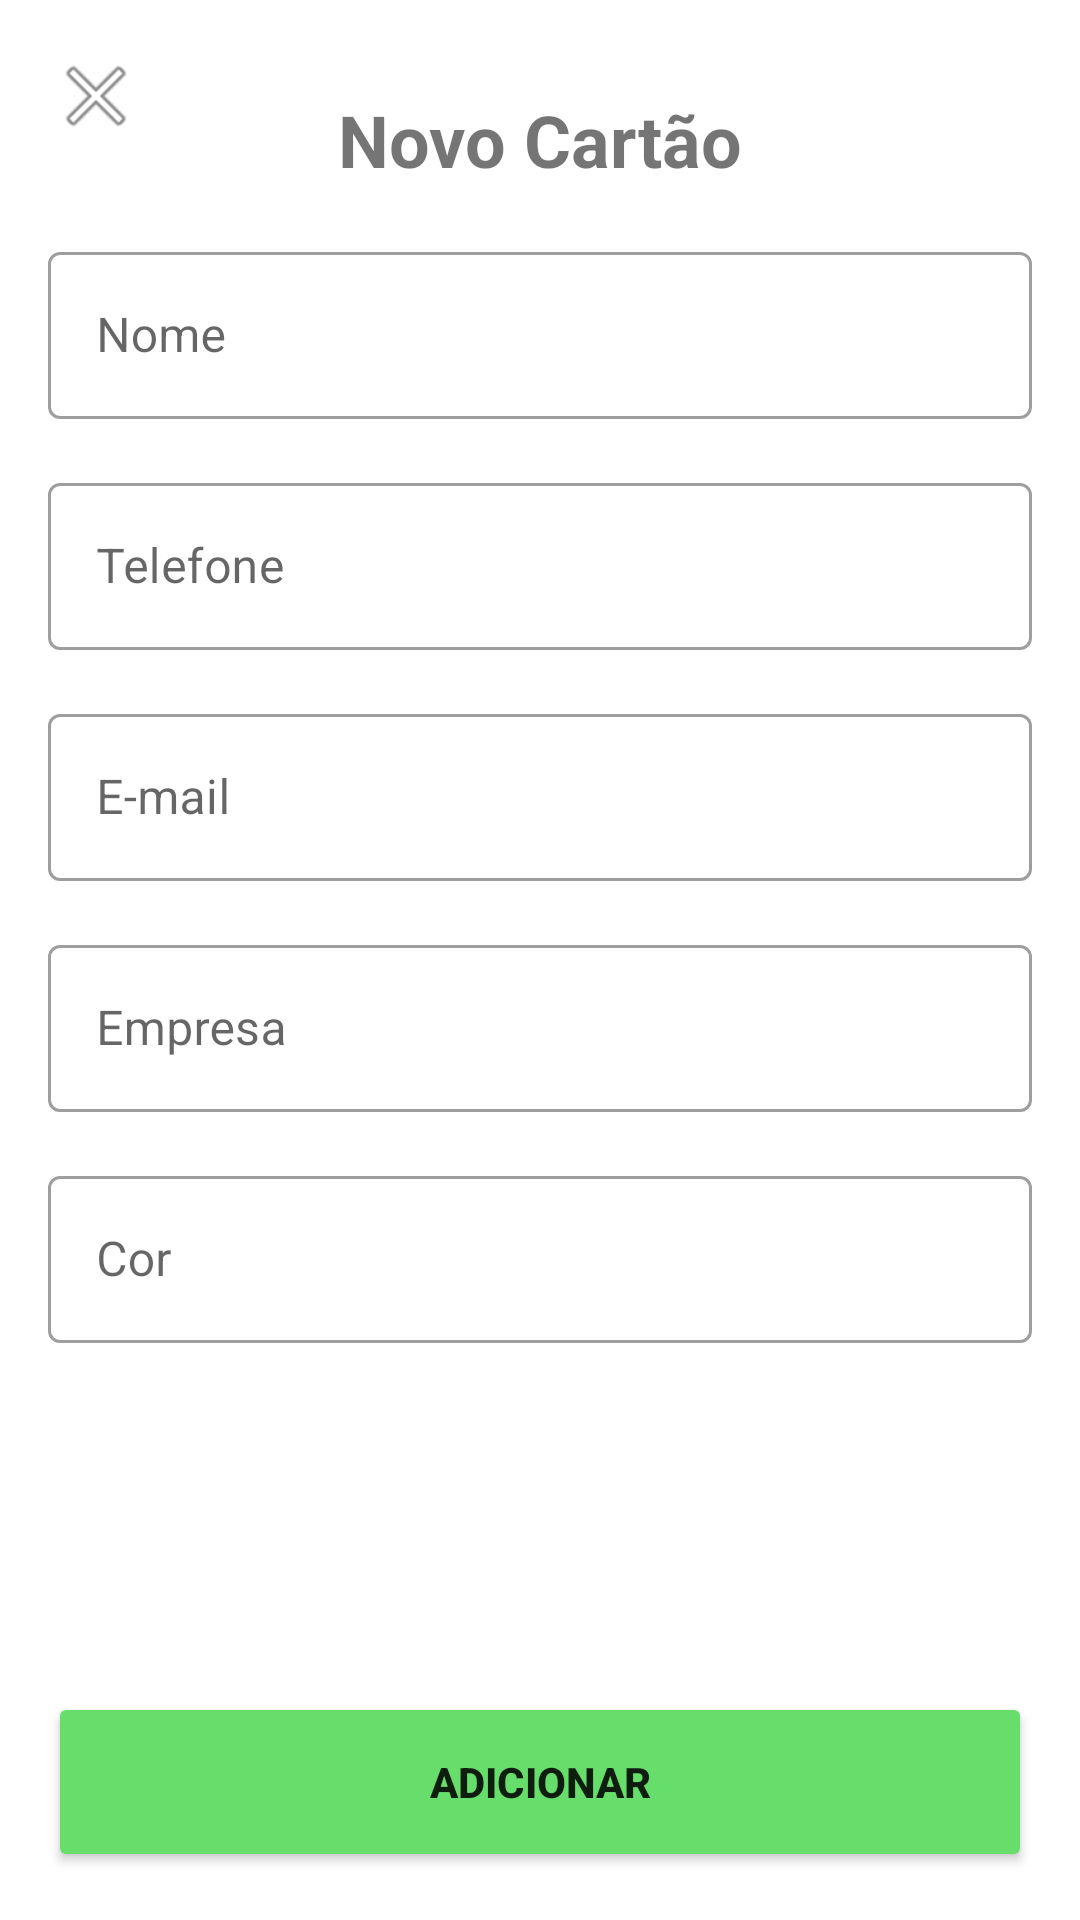

Screen size 1080px x 1920px. Icon name, then its box in pixels as bbox(x1, y1, x2, y2):
close clear cancel: bbox(66, 66, 126, 126)
